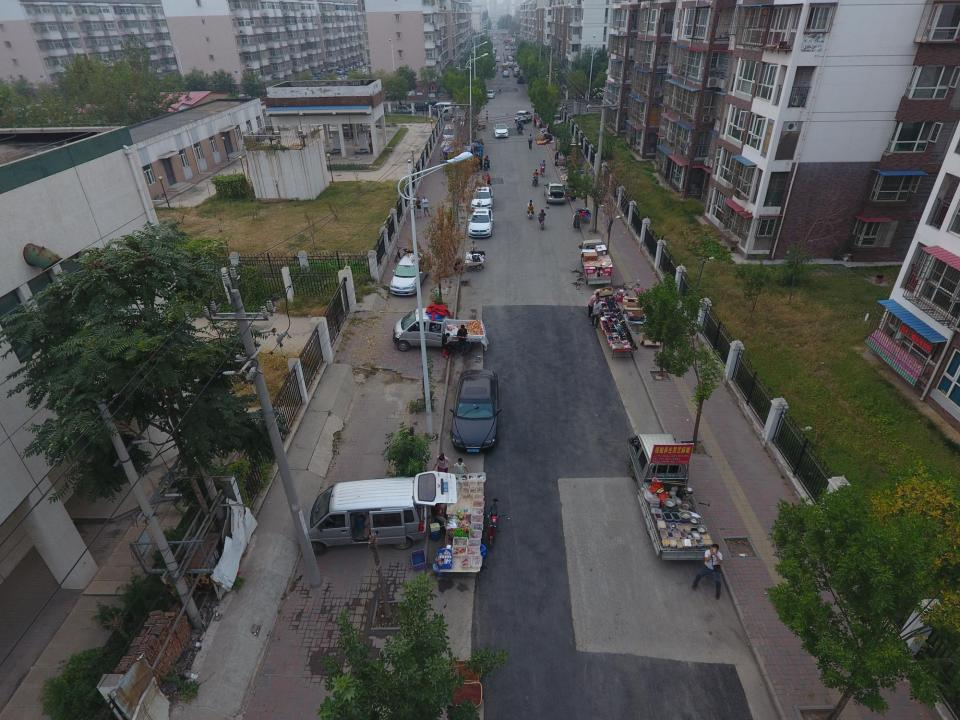car: (450, 369, 502, 452), (389, 252, 430, 296), (467, 208, 494, 238), (543, 182, 574, 203), (470, 186, 493, 213), (404, 101, 430, 112), (421, 98, 443, 109), (493, 123, 509, 138), (514, 110, 532, 123), (392, 105, 416, 114), (485, 89, 495, 98)
truck: (626, 433, 716, 561), (392, 308, 487, 351), (578, 239, 611, 285)
van: (301, 471, 457, 555), (437, 105, 462, 121), (441, 124, 459, 144), (431, 102, 453, 115)
